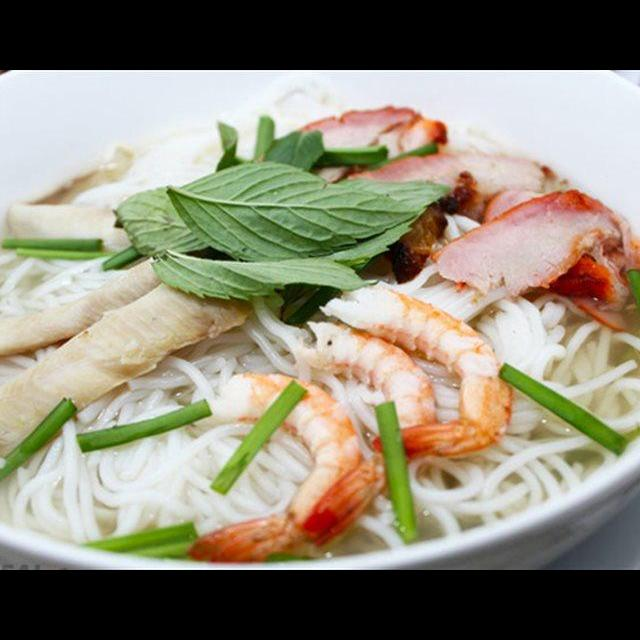bun: (0, 258, 640, 562), (0, 237, 146, 332), (0, 336, 67, 411)
ca: (0, 271, 257, 460), (0, 245, 184, 371), (0, 138, 186, 257)
thit heo quay: (426, 182, 631, 307), (233, 100, 456, 210), (329, 146, 554, 228), (486, 234, 640, 335)
tom: (182, 363, 373, 569), (313, 276, 519, 463), (285, 310, 442, 552)
